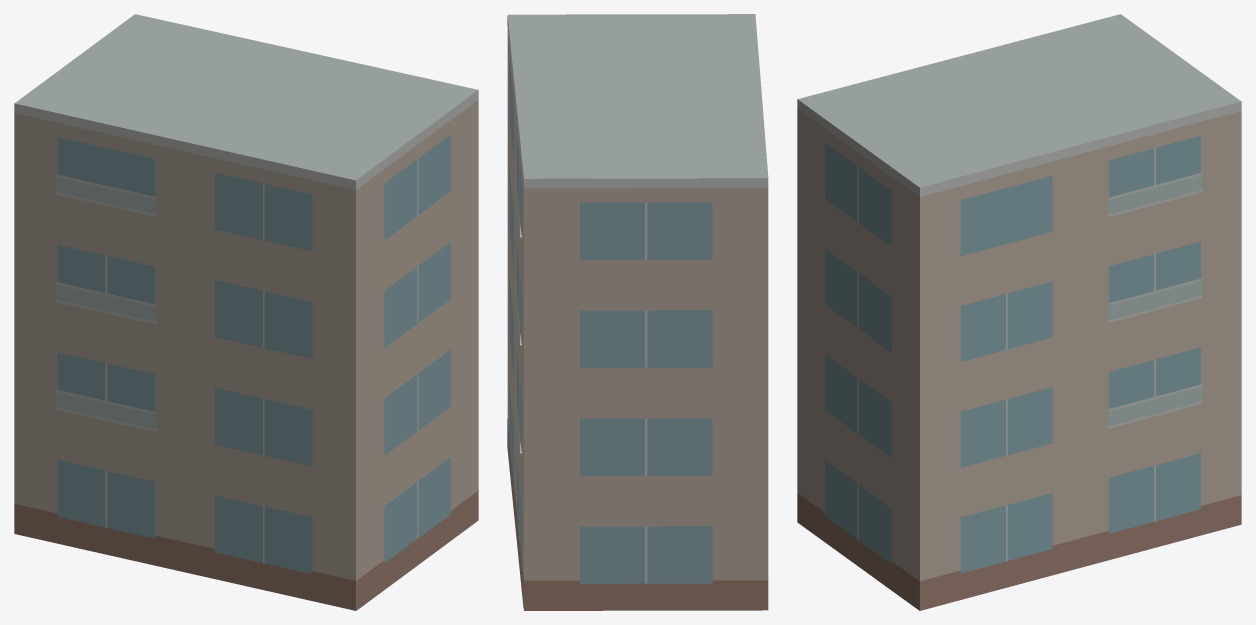
File: survey-upis-32724556.glb
3 renders of one model, left to right at view 1: azimuth 30°, elevation 25°; view 2: azimuth 150°, elevation 25°; view 3: azimuth 270°, elevation 25°, orthographic. The views are drawn at different scales.
Visible parts, largest first — view 1: survey-upis-32724556.tmp; view 2: survey-upis-32724556.tmp; view 3: survey-upis-32724556.tmp.
Boxes of the visible parts, bbox=[...] form: survey-upis-32724556.tmp: bbox=[14, 14, 478, 610]; survey-upis-32724556.tmp: bbox=[507, 14, 768, 610]; survey-upis-32724556.tmp: bbox=[797, 14, 1241, 610].
Size of the model in its own units: 9.69 by 11 by 10.47.
